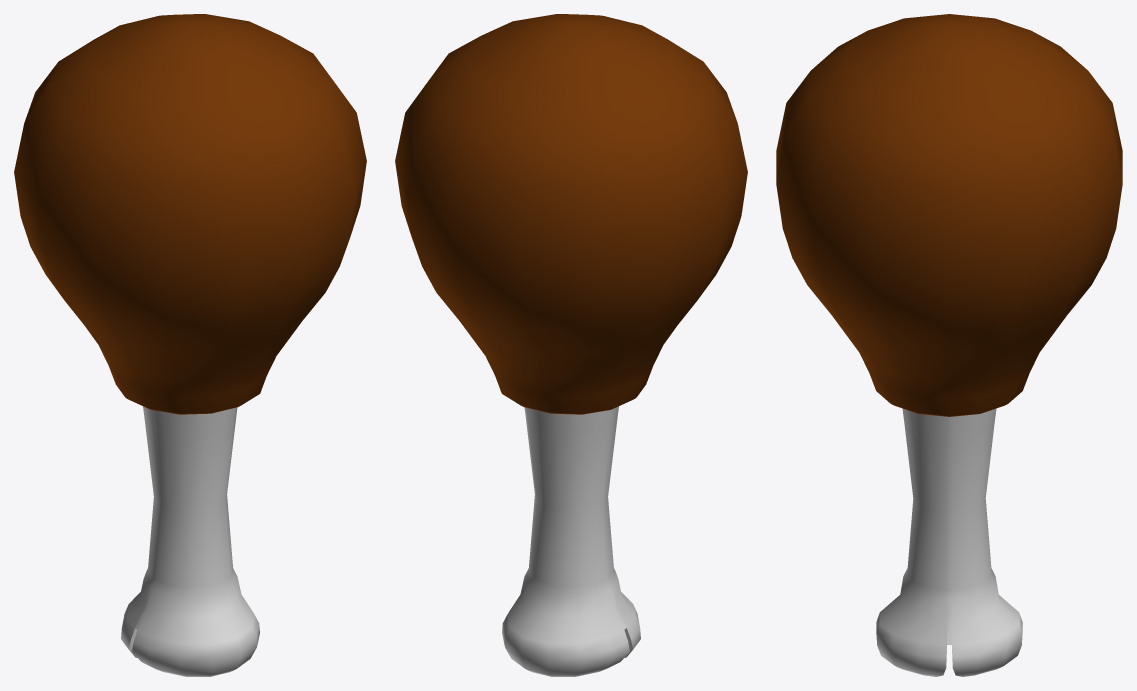
File: BIG POLLO.fbx
3 renders of one model, left to right at view 1: azimuth 30°, elevation 25°; view 2: azimuth 150°, elevation 25°; view 3: azimuth 270°, elevation 25°, orthographic.
Visible parts, largest first — view 1: pSphere1, pCylinder6; view 2: pSphere1, pCylinder6; view 3: pSphere1, pCylinder6.
Boxes of the visible parts, <box> form: pSphere1: <box>14,14,366,414</box>; pCylinder6: <box>121,406,259,676</box>; pSphere1: <box>395,14,747,414</box>; pCylinder6: <box>502,406,640,676</box>; pSphere1: <box>776,14,1122,416</box>; pCylinder6: <box>876,408,1022,676</box>.
Size of the model in its own units: 152 by 299 by 148.
Materials: 1 (1 with a texture image).
